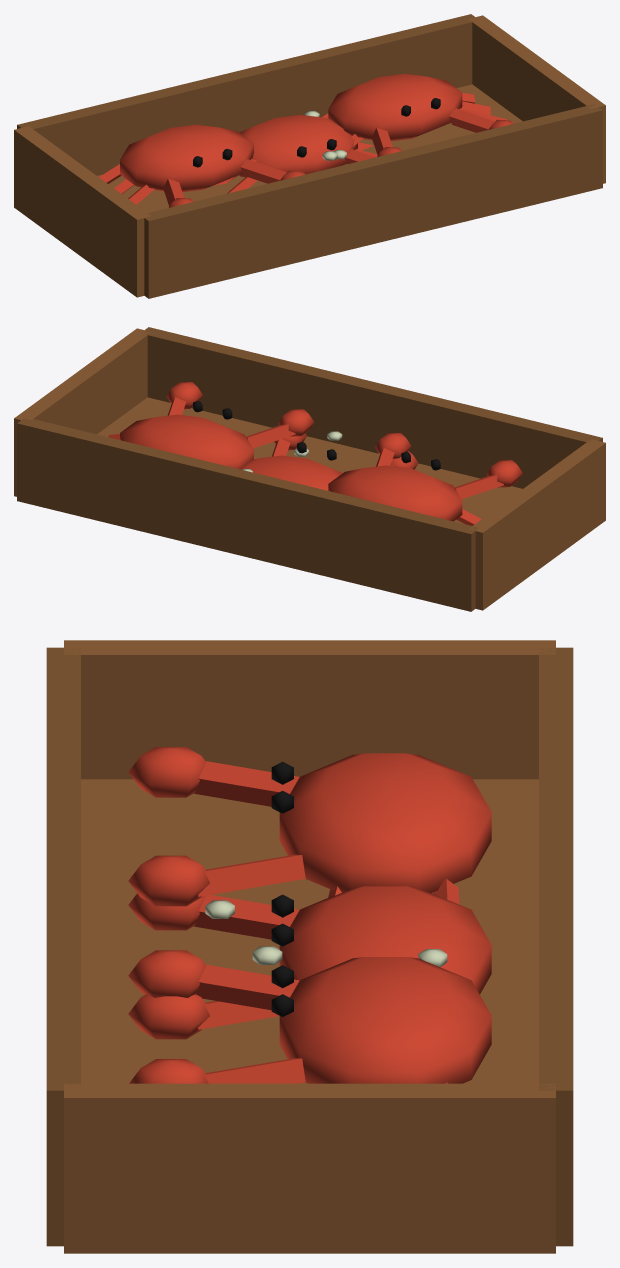
File: Sea_Crab.fbx
The picture shows the model from 3 angles, top to bottom: view 1: azimuth 30°, elevation 25°; view 2: azimuth 150°, elevation 25°; view 3: azimuth 270°, elevation 25°; orthographic projection. The views are drawn at different scales.
Parts seen in each view (by area): view 1: Sea_Crab__Stack, Sea_Crab; view 2: Sea_Crab__Stack, Sea_Crab; view 3: Sea_Crab__Stack, Sea_Crab, Sea_Crab__Rotten.
Boxes of the visible parts, bbox=[...] form: Sea_Crab__Stack: bbox=[14, 14, 605, 298]; Sea_Crab: bbox=[214, 115, 377, 193]; Sea_Crab__Stack: bbox=[14, 327, 605, 611]; Sea_Crab: bbox=[239, 433, 418, 490]; Sea_Crab__Stack: bbox=[46, 640, 573, 1253]; Sea_Crab: bbox=[128, 886, 491, 1039]; Sea_Crab__Rotten: bbox=[205, 900, 447, 967].
Bounding box in the file's own units: 0.2524 × 0.04 × 0.1227.
